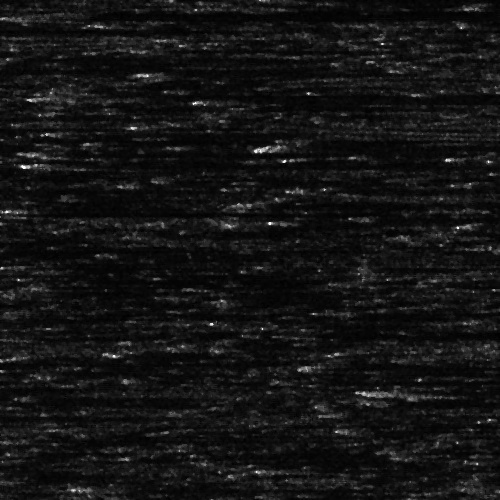object: (19, 481, 144, 492), (2, 5, 107, 18), (344, 386, 449, 397), (35, 89, 140, 98), (0, 433, 75, 444), (273, 184, 346, 193), (104, 43, 167, 52), (267, 464, 320, 473), (294, 360, 357, 367), (181, 96, 264, 101), (0, 205, 42, 214), (0, 333, 41, 342), (121, 69, 184, 74), (1, 147, 64, 152), (12, 160, 43, 165), (225, 0, 340, 1), (17, 393, 48, 396), (0, 27, 9, 34)
shadow: (55, 5, 308, 18), (87, 89, 425, 98), (5, 205, 250, 214), (0, 63, 231, 72), (22, 433, 181, 444), (81, 481, 238, 492), (310, 184, 484, 193), (136, 43, 306, 52), (223, 96, 483, 101), (326, 360, 496, 367), (397, 386, 484, 397), (0, 27, 134, 34), (152, 69, 322, 74), (294, 464, 377, 473), (0, 333, 74, 342), (0, 498, 229, 500), (0, 113, 48, 122), (32, 147, 117, 152), (27, 160, 111, 165), (33, 393, 112, 396), (283, 0, 372, 1)
